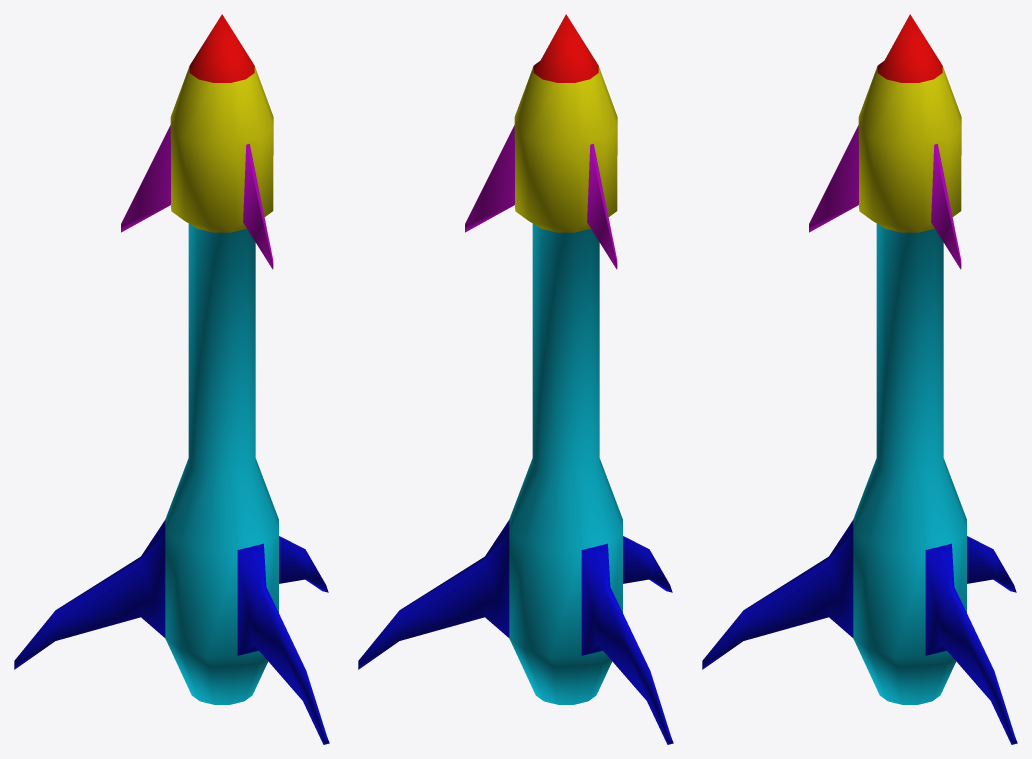
3 views of the same model, side by side, from view 1: azimuth 30°, elevation 25°; view 2: azimuth 150°, elevation 25°; view 3: azimuth 270°, elevation 25° (orthographic).
Visible parts, largest first — view 1: Missile_Low; view 2: Missile_Low; view 3: Missile_Low.
Part boxes in pixels (box(x1,y1,x2,y2)): Missile_Low: box(14, 14, 329, 744); Missile_Low: box(358, 14, 673, 744); Missile_Low: box(702, 14, 1017, 744).
Size of the model in its own units: 4.16 by 8.55 by 3.61.
